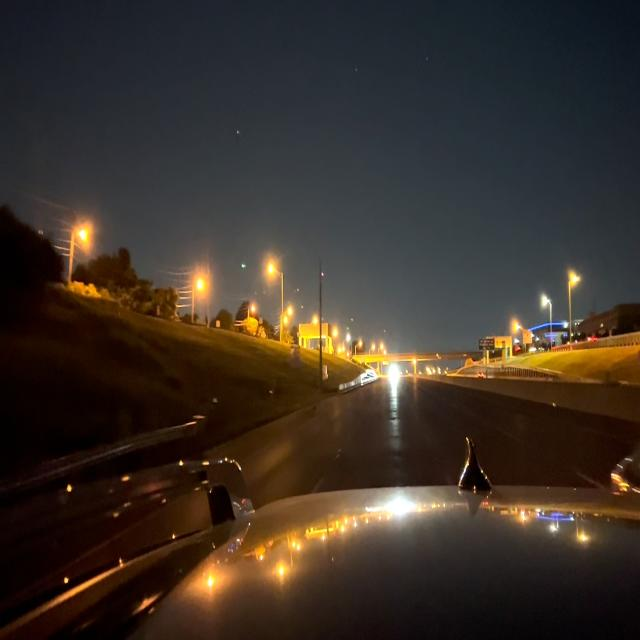back-of-sign: (290, 345, 300, 368)
